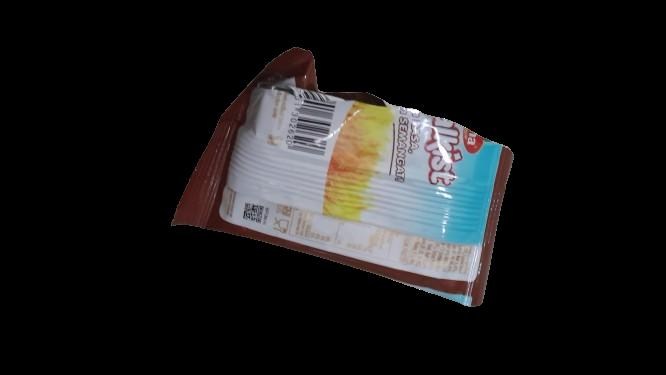Plastik: (169, 39, 524, 312)
